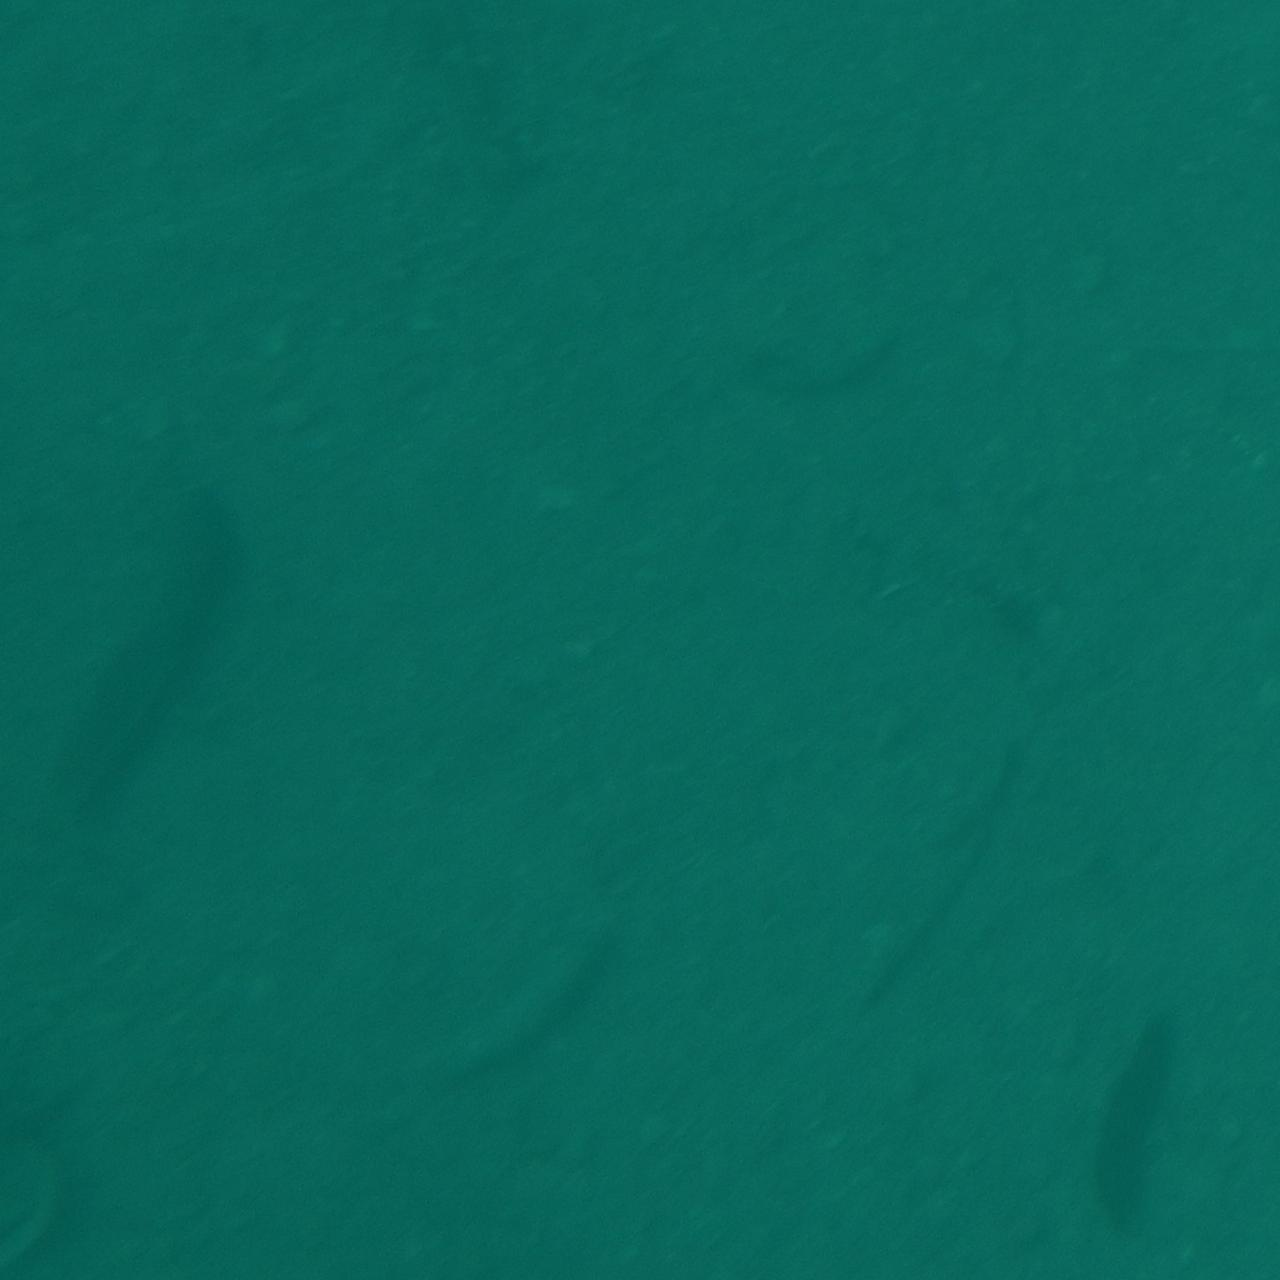Holothuria tubulosa: (42, 464, 245, 831), (392, 892, 670, 1108), (1061, 998, 1212, 1279)
